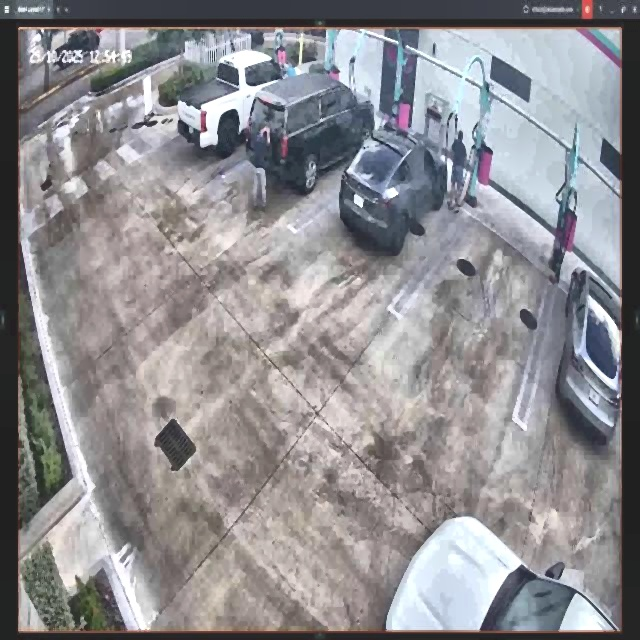Car: (248, 70, 373, 189), (178, 48, 303, 156), (340, 130, 448, 254)
